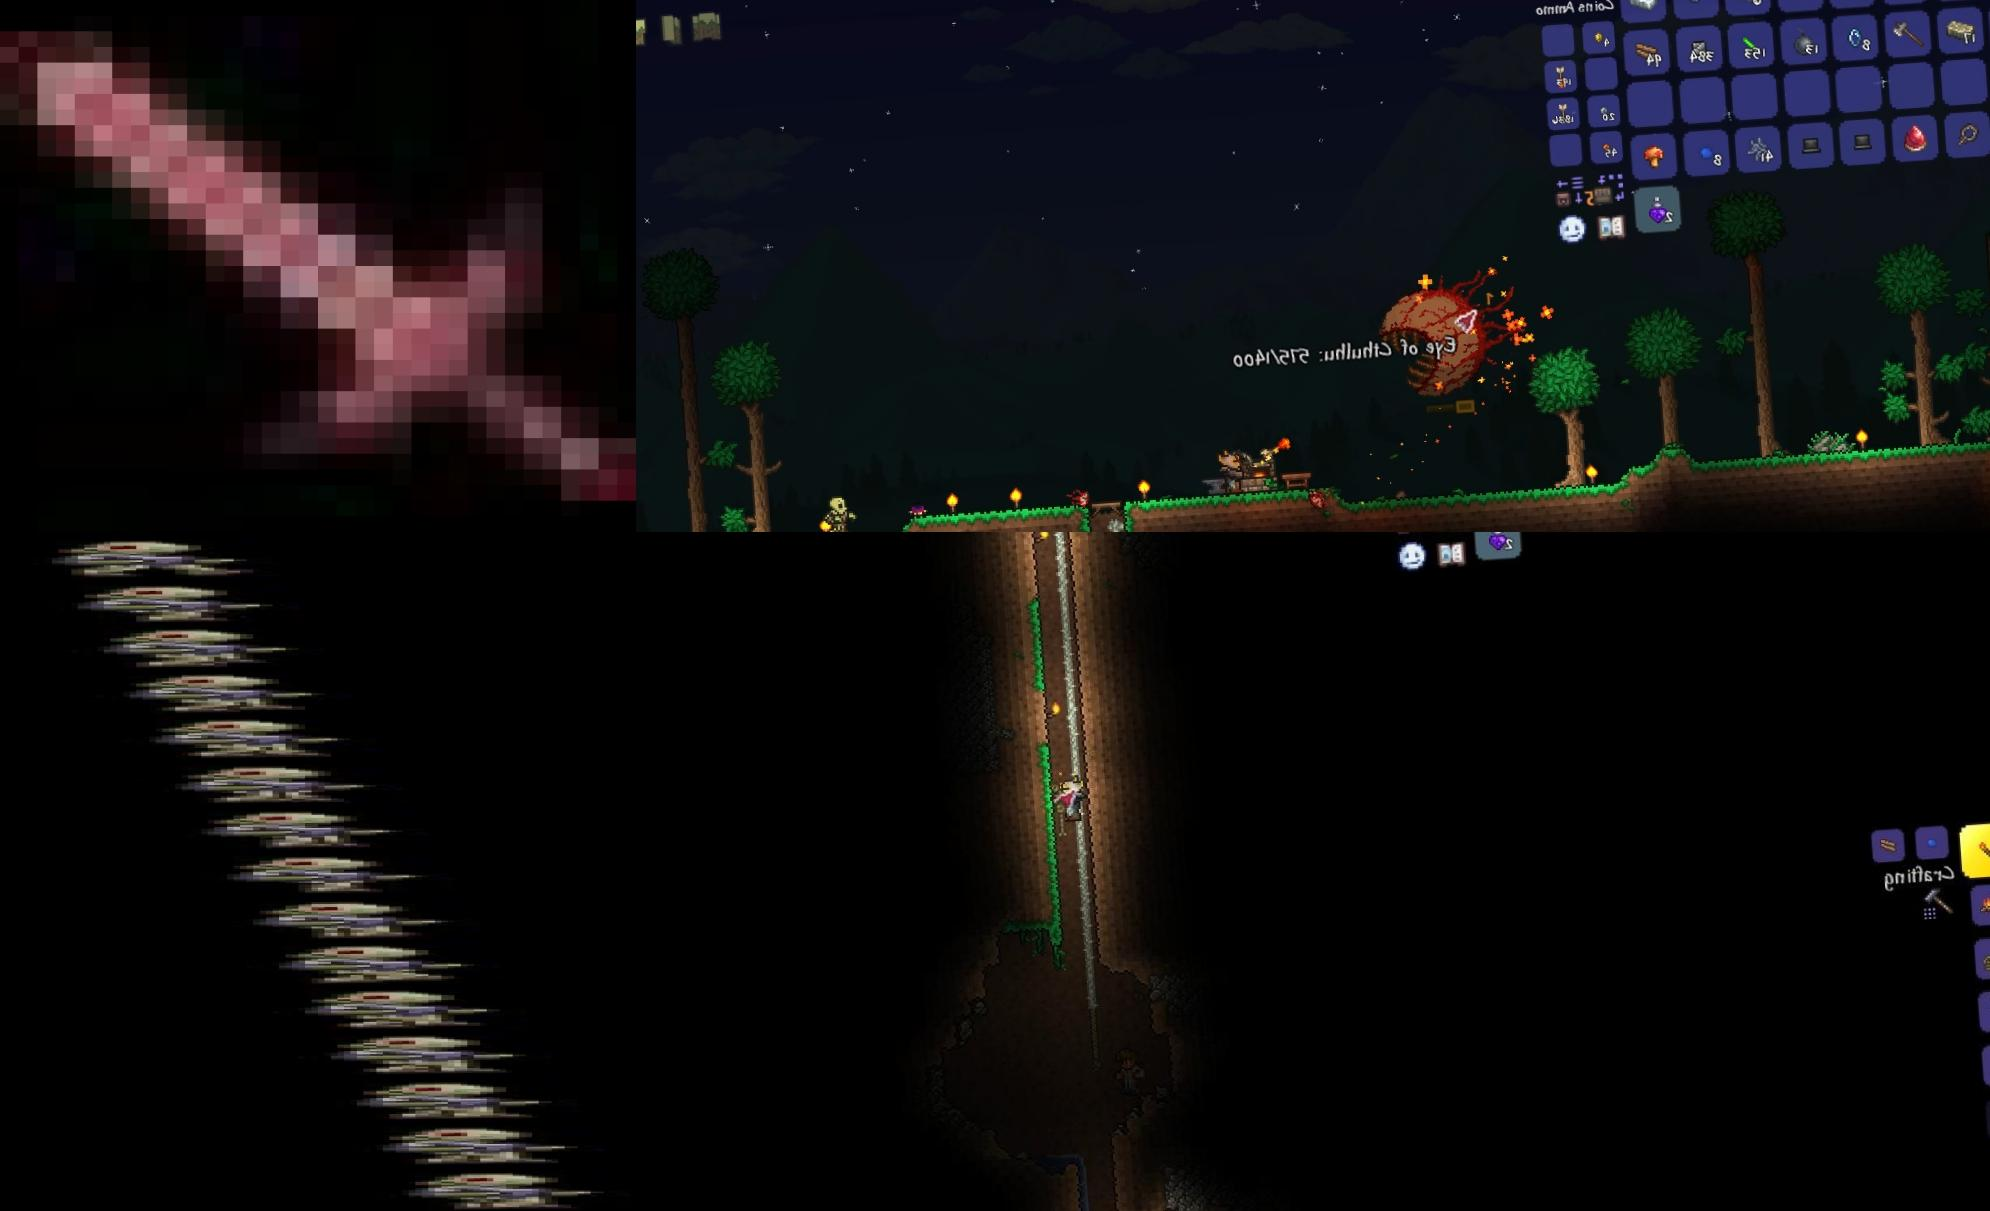eyeC: (1375, 262, 1528, 407)
sword: (0, 0, 635, 532)
zombie: (23, 537, 276, 580)
